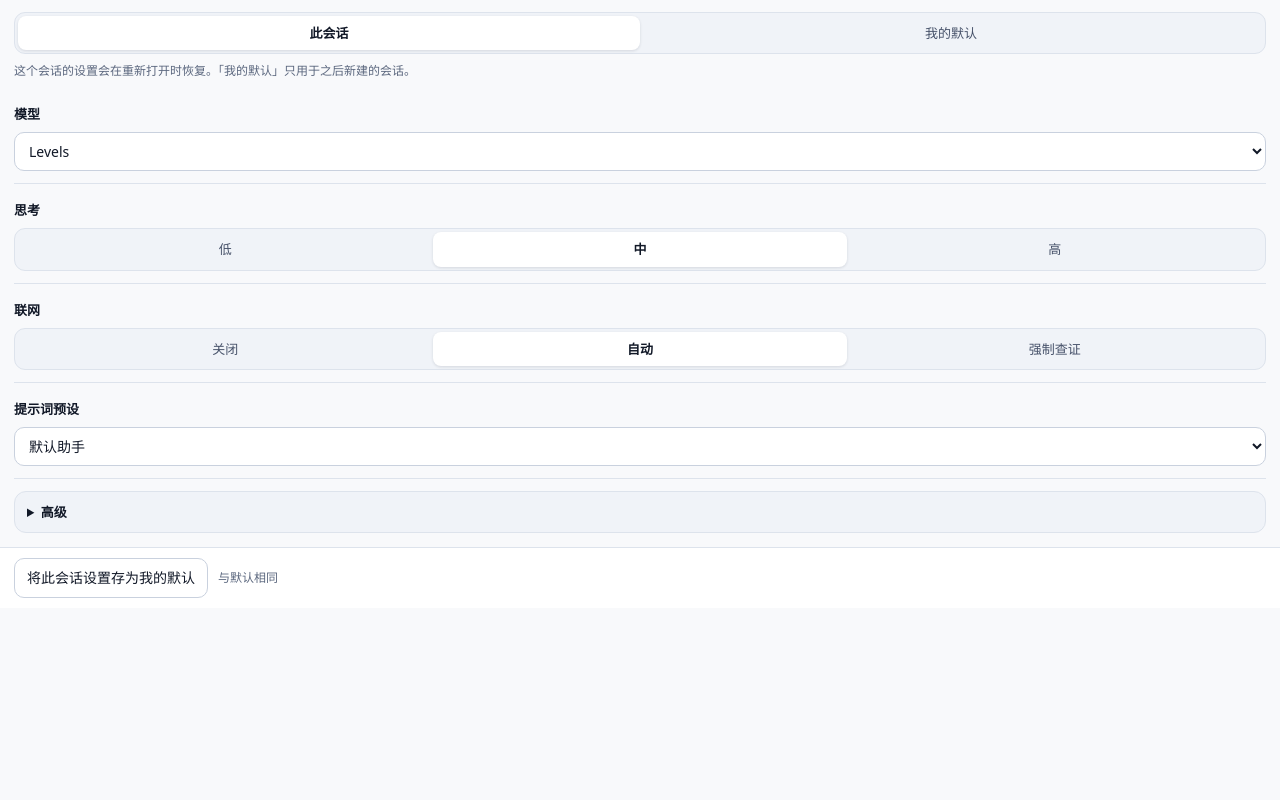
SettingsPanel › saves this conversation's settings as the defaults, and reports a failure
The width and height of the screenshot is (1280, 800).
Click the radio button labelled "高".
click(1055, 249)  # box [847, 232, 1262, 266]
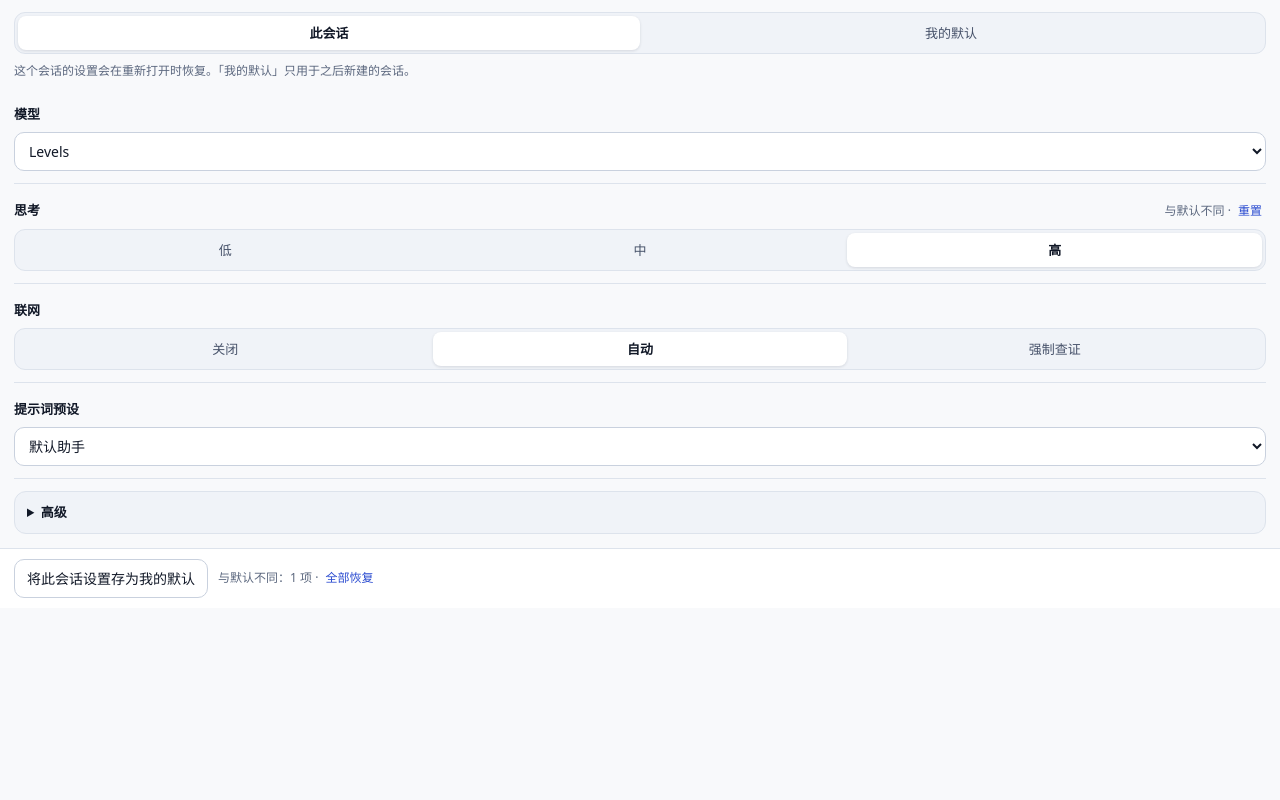
Click the button "将此会话设置存为我的默认".
click(111, 578)  # box [14, 559, 208, 598]
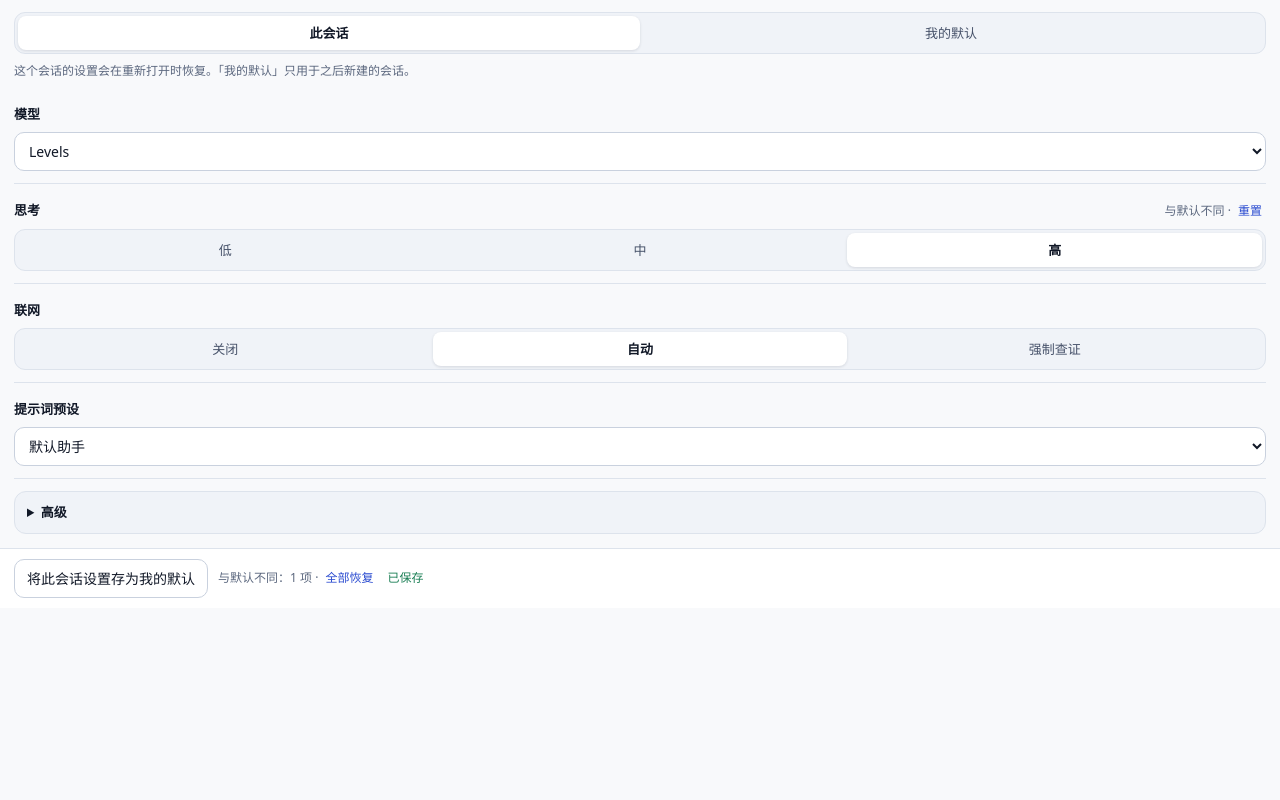
Check: the message reads "已保存", box [388, 569, 424, 586]
Click the button "将此会话设置存为我的默认".
click(111, 578)  # box [14, 559, 208, 598]
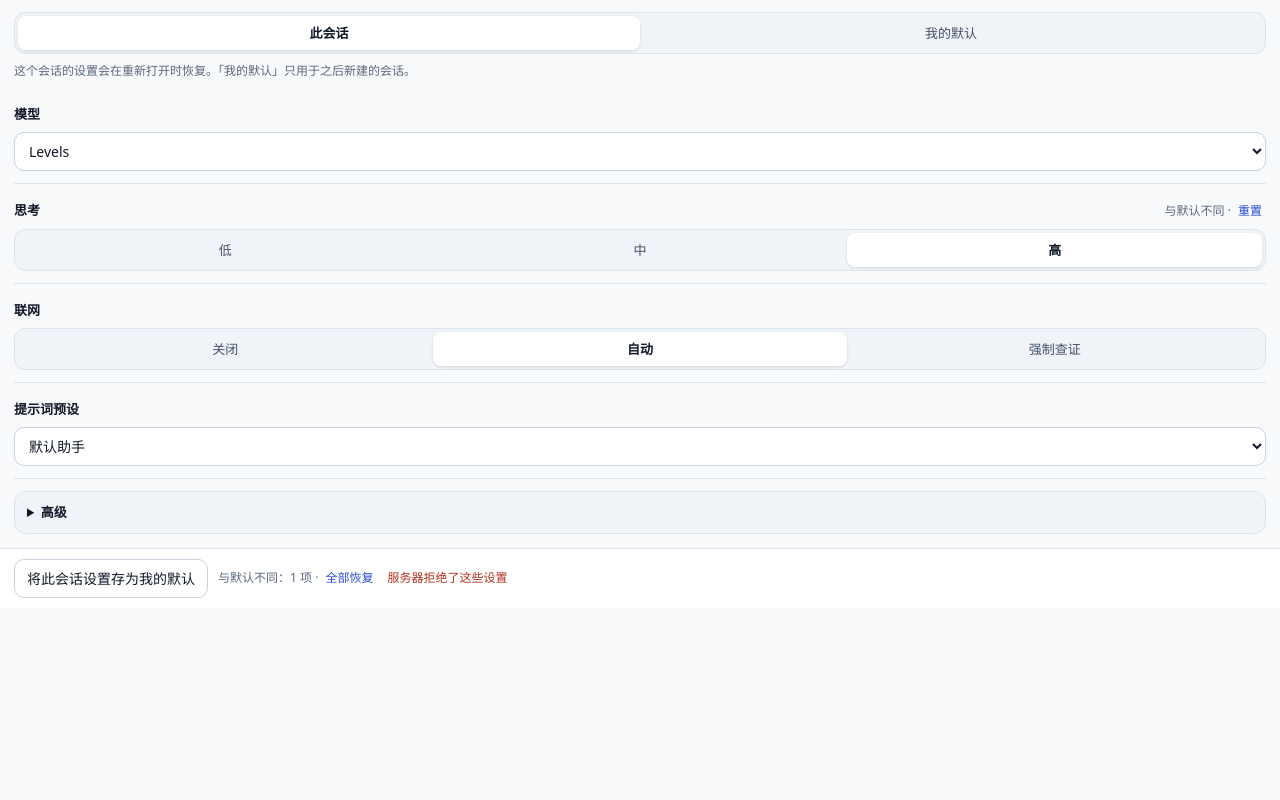
Check: the text "服务器拒绝了这些设置" is shown, box [388, 569, 508, 586]
